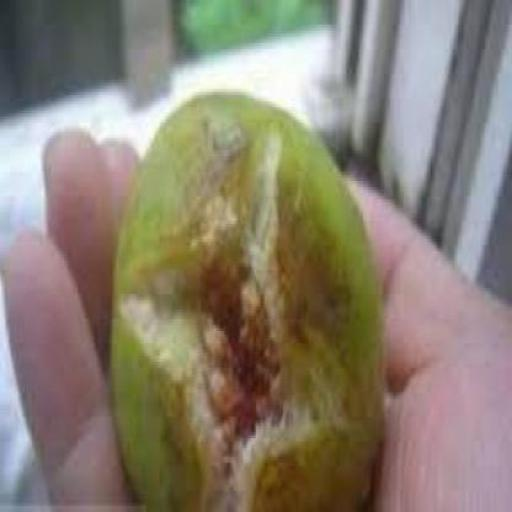biodegradable: (112, 85, 386, 509)
